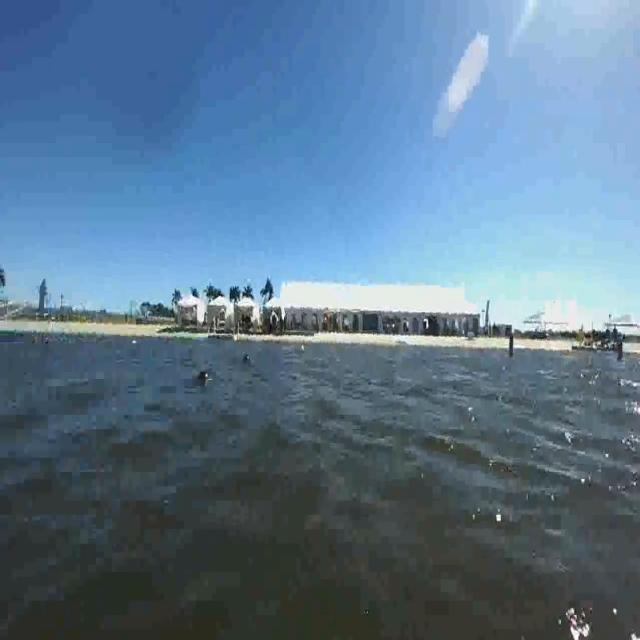black-buoy: (197, 368, 208, 384), (243, 350, 250, 363)
